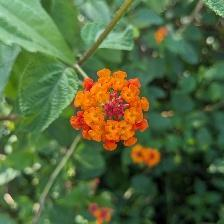common lanthana: (72, 69, 148, 150), (131, 143, 148, 168), (146, 150, 161, 167)
